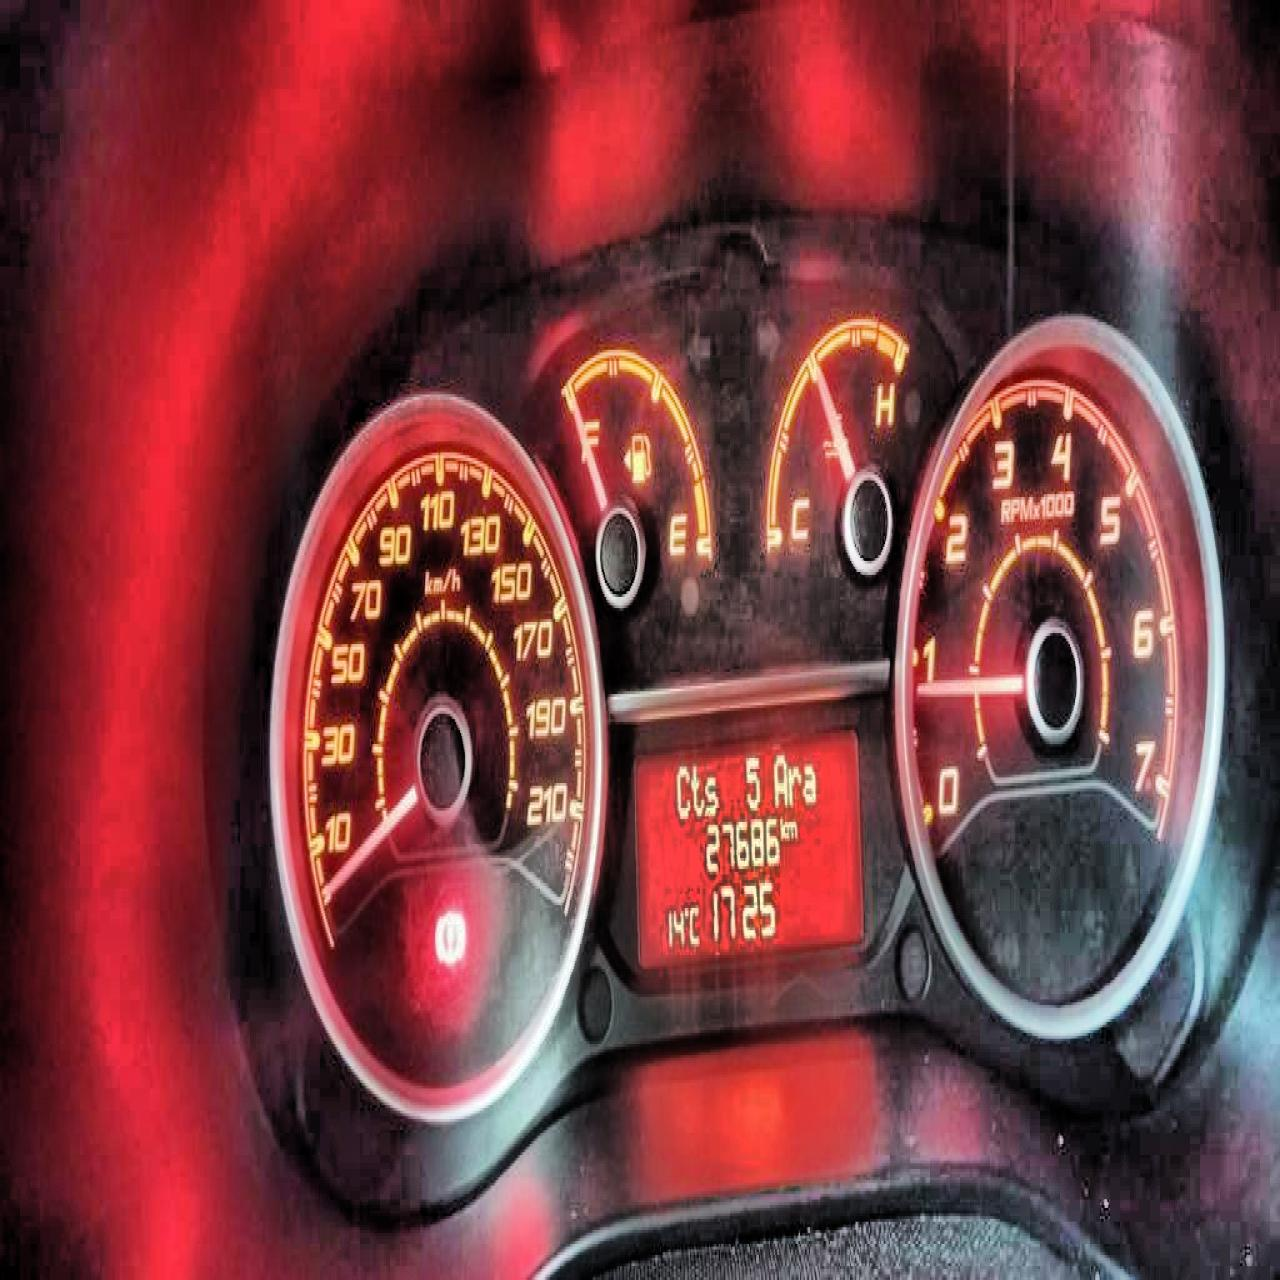1: (708, 883, 719, 941), (663, 905, 673, 947)
2: (738, 878, 756, 939), (703, 822, 719, 874)
4: (673, 908, 683, 944)
5: (742, 749, 760, 810), (757, 878, 774, 939)
6: (734, 813, 749, 866), (765, 813, 779, 866)
7: (720, 880, 736, 941), (720, 816, 734, 869)
8: (749, 817, 763, 866)
X: (770, 747, 788, 808), (688, 758, 703, 819), (674, 758, 688, 822), (802, 761, 817, 805), (703, 771, 717, 816), (788, 761, 801, 805), (688, 899, 699, 946), (787, 819, 797, 839), (779, 817, 787, 842)
odometer: (626, 716, 867, 980)
